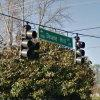Traffic light: (10, 16, 96, 68)
